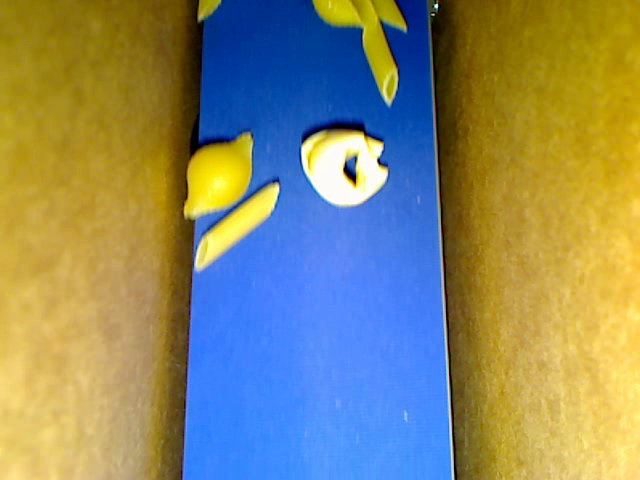penne: (194, 181, 279, 271), (362, 16, 397, 105), (372, 1, 405, 30), (198, 1, 223, 23)
shell: (184, 132, 253, 219), (312, 1, 378, 31)
tortellini: (300, 130, 388, 206)
